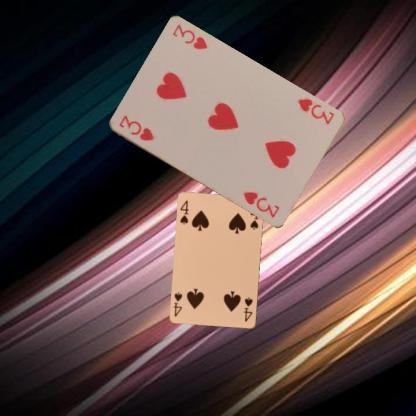3h: (295, 96, 335, 126), (115, 113, 155, 142)
4s: (242, 295, 254, 323), (178, 198, 190, 226)
